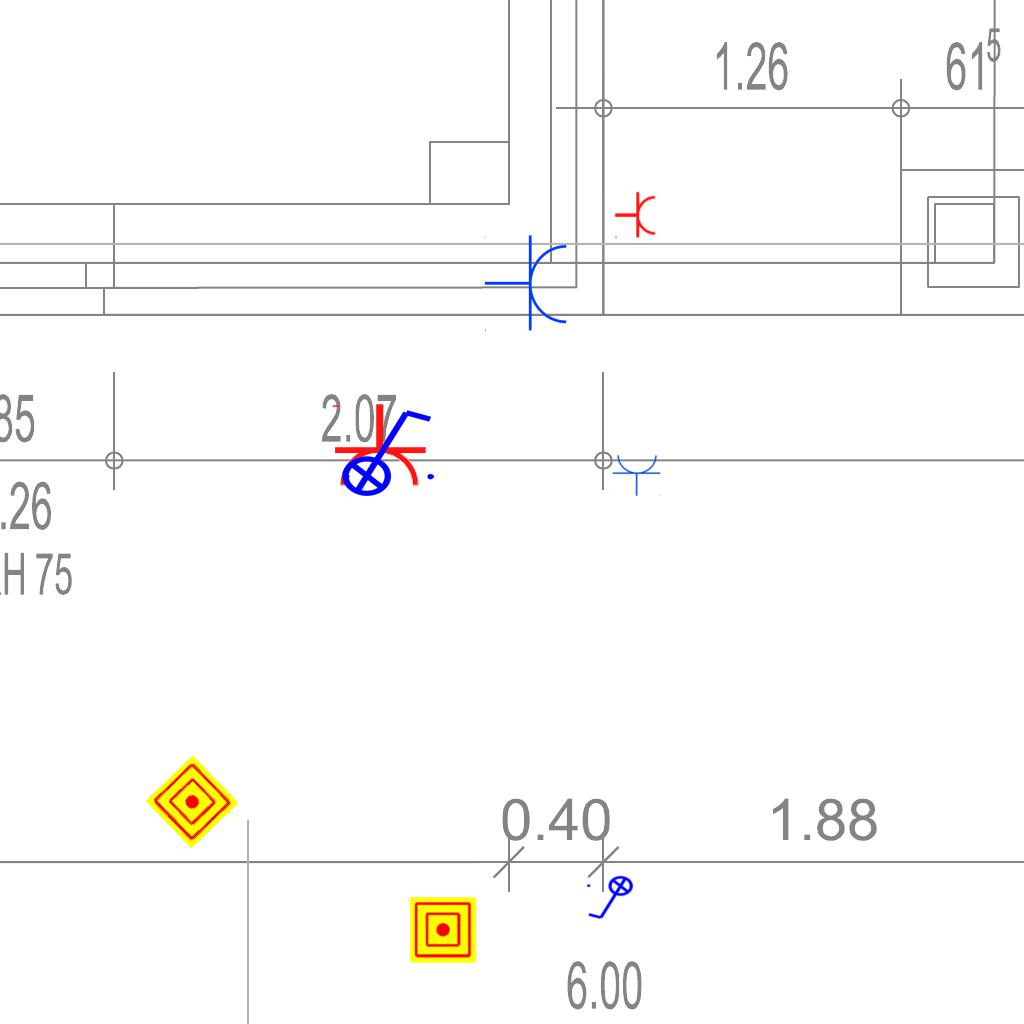Ausschalter_beleuchtet: (328, 402, 440, 498), (584, 875, 640, 923)
NAM-Nichtautomatischer_Melder: (145, 755, 239, 849), (410, 897, 476, 963)
Schukosteckdose_einfach: (328, 402, 428, 489), (484, 234, 571, 334), (614, 191, 657, 241), (612, 453, 662, 496)
